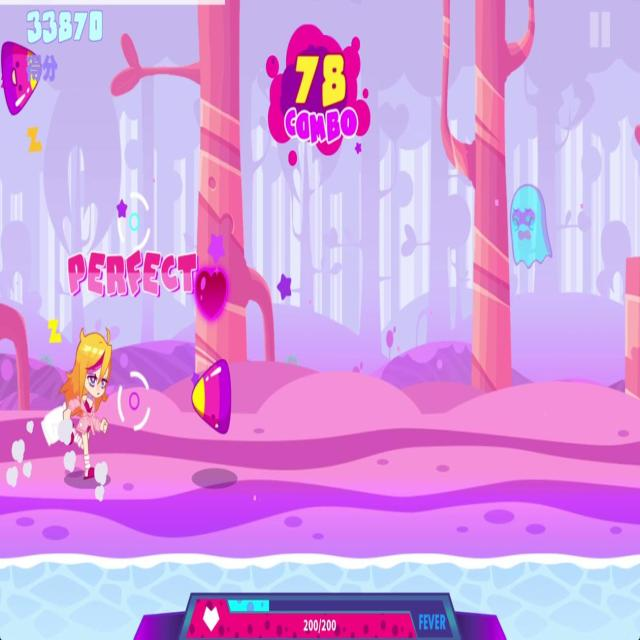gui: (506, 177, 556, 273)
jian: (190, 352, 234, 444), (1, 34, 42, 121)
